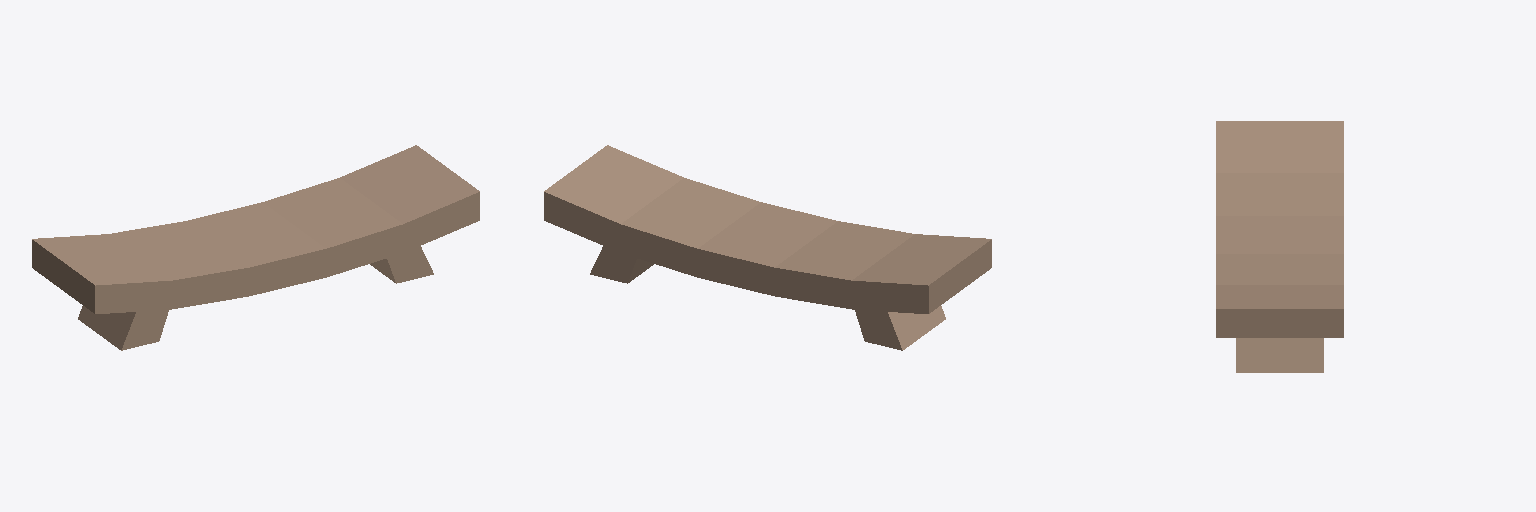
File: tray.obj
The picture shows the model from 3 angles: view 1: azimuth 30°, elevation 25°; view 2: azimuth 150°, elevation 25°; view 3: azimuth 270°, elevation 25°; orthographic projection.
Visible parts, largest first — view 1: tray_Cube.10810; view 2: tray_Cube.10810; view 3: tray_Cube.10810.
Boxes of the visible parts, x1,y1,x2,y2 form: tray_Cube.10810: [32, 145, 479, 350]; tray_Cube.10810: [544, 145, 991, 350]; tray_Cube.10810: [1216, 121, 1343, 372].
Bounding box in the file's own units: 1.26 × 0.2539 × 0.3596.